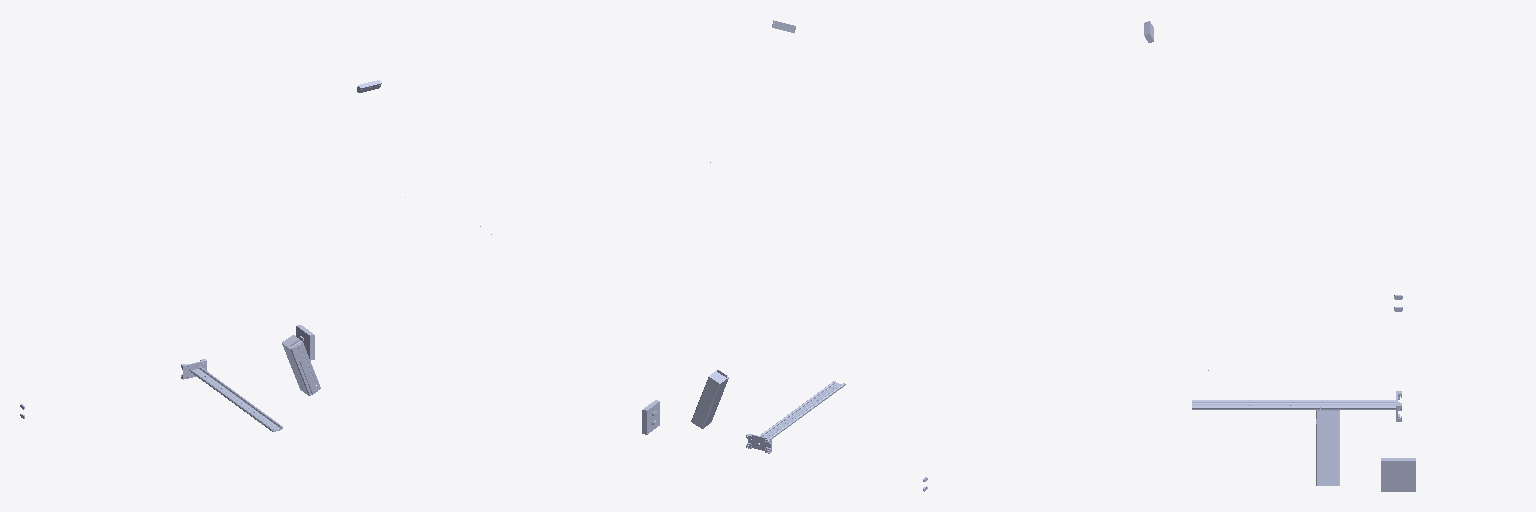
--- Render facts (derived) ---
3 views of the same robot in one strip: view 1: azimuth 30°, elevation 25°; view 2: azimuth 150°, elevation 25°; view 3: azimuth 270°, elevation 25° (orthographic).
Model robo_description with 21 links and 20 joints (2 revolute, 2 prismatic, 16 fixed), rooted at base_link, posed all joints at 0 but 1 set to mid-range because 0 is outside their limits (joint5 = 0.4665).
Links seen in each view (by area): view 1: link2, link5; view 2: link2, link5, base_link; view 3: link2, link5, base_link.
Boxes of the visible links, bbox=[...] form: link2: bbox=[181, 359, 282, 431]; link5: bbox=[282, 335, 320, 395]; link2: bbox=[746, 381, 845, 453]; link5: bbox=[691, 370, 728, 428]; base_link: bbox=[642, 400, 927, 491]; link2: bbox=[1192, 391, 1401, 421]; link5: bbox=[1316, 407, 1339, 485]; base_link: bbox=[1381, 295, 1415, 491].
Size in the robot's own frame: 1.65 by 0.7952 by 1.47 metres.
4 mesh visuals loaded from 6 distinct referenced files (4 binary STL); not drawn: 2 (reference not matched to a file when rendering).

robot.urdf — robo_description:
<?xml version="1.0" encoding="utf-8"?>
<!-- 25AUG2023 Changed the minimum limit of lJoint5 to 0.247 and max to 0.686 -->
<!-- This URDF was automatically created by SolidWorks to URDF Exporter! Originally created by Stephen Brawner ([email redacted]) 
     Commit Version: 1.6.0-4-g7f85cfe  Build Version: 1.6.7995.38578
     For more information, please see http://wiki.ros.org/sw_urdf_exporter -->
<robot
  name="robo_description">
  <link
    name="base_link">
    <inertial>
      <origin
        xyz="-5.13826234849775E-17 -1.63904738952765E-17 0.339473684210526"
        rpy="0 0 0" />
      <mass
        value="19" />
      <inertia
        ixx="2.34956140350877"
        ixy="1.11311423041845E-17"
        ixz="3.69215798456927E-16"
        iyy="2.34956140350877"
        iyz="-7.44985984223617E-17"
        izz="0.151666666666667" />
    </inertial>
    <visual>
      <origin
        xyz="0 0 0"
        rpy="0 0 0" />
      <geometry>
        <mesh
          filename="package://robo_description/meshes/base_link.STL" />
      </geometry>
      <material
        name="">
        <color
          rgba="0.792156862745098 0.819607843137255 0.933333333333333 1" />
      </material>
    </visual>
    <collision>
      <origin
        xyz="0 0 0"
        rpy="0 0 0" />
      <geometry>
        <mesh
          filename="package://robo_description/meshes/base_link.STL" />
      </geometry>
    </collision>
  </link>
  <link
    name="link2">
    <inertial>
      <origin
        xyz="-0.001261 -0.2858 0.14572"
        rpy="0 0 0" />
      <mass
        value="3.13280329013611" />
      <inertia
        ixx="0.0169430024052603"
        ixy="-0.00280446630124331"
        ixz="0.0223183329111622"
        iyy="0.162057682822749"
        iyz="0.000505061238040558"
        izz="0.161640952999751" />
    </inertial>
    <visual>
      <origin
        xyz="0 0 -1"
        rpy="0 0 0" />
      <geometry>
        <mesh
          filename="package://robo_description/meshes/link2.STL" />
      </geometry>
      <material
        name="">
        <color
          rgba="0.792156862745098 0.819607843137255 0.933333333333333 1" />
      </material>
    </visual>
    <collision>
      <origin
        xyz="0 0 0"
        rpy="0 0 0" />
      <geometry>
        <mesh
          filename="package://robo_description/meshes/link2.STL" />
      </geometry>
    </collision>
  </link>
  <joint
    name="joint2"
    type="prismatic">
    <origin
      xyz="0.0 0 1"
      rpy="0 0 0" />
    <parent
      link="base_link" />
    <child
      link="link2" />
    <axis
      xyz="0 0 1" />
    <limit
      lower="0"
      upper="1"
      effort="0"
      velocity="0" />
  </joint>
  <link
    name="link4">
    <inertial>
      <origin
        xyz="-0.000438554587764983 0.0620490502692163 -0.172885898172371"
        rpy="0 0 0" />
      <mass
        value="0.162146723185788" />
      <inertia
        ixx="0.00336616371871891"
        ixy="1.46811284877534E-06"
        ixz="-3.57096843523024E-06"
        iyy="0.00312866852492012"
        iyz="0.00048231220150353"
        izz="0.000338308018448651" />
    </inertial>
    <visual>
      <origin
        xyz="-0.4665 0 -0.790"
        rpy="0 0 0" />
      <geometry>
        <mesh
          filename="package://robo_description/meshes/link4.STL" />
      </geometry>
      <material
        name="">
        <color
          rgba="0.792156862745098 0.819607843137255 0.933333333333333 1" />
      </material>
    </visual>
    <collision>
      <origin
        xyz="0 0 0"
        rpy="0 0 0" />
      <geometry>
        <mesh
          filename="package://robo_description/meshes/link4.STL" />
      </geometry>
    </collision>
  </link>
  <joint
    name="joint4"
    type="revolute">
    <origin
      xyz="0.46904 0 -0.21"
      rpy="0 0 0" />
    <parent
      link="link2" />
    <child
      link="link4" />
    <axis
      xyz="0 0 1" />
    <limit
      lower="-2.9671"
      upper="2.9671"
      effort="0"
      velocity="0" />
  </joint>
  <link
    name="link3">
    <inertial>
      <origin
        xyz="-0.0832189655707039 -0.0894795892974461 -0.00179630042130147"
        rpy="0 0 0" />
      <mass
        value="1.71811977068641" />
      <inertia
        ixx="0.00948440583507882"
        ixy="-0.00159429497921182"
        ixz="0.00308193362516688"
        iyy="0.035537875179704"
        iyz="0.000648421421055908"
        izz="0.0305779645247813" />
    </inertial>
    <visual>
      <origin
        xyz="-0.468545 -0.078 -0.43528"
        rpy="0 0 0" />
      <geometry>
        <mesh
          filename="package://robo_description/meshes/link3.STL" />
      </geometry>
      <material
        name="">
        <color
          rgba="0.792156862745098 0.819607843137255 0.933333333333333 1" />
      </material>
    </visual>
    <collision>
      <origin
        xyz="0 0 0"
        rpy="0 0 0" />
      <geometry>
        <mesh
          filename="package://robo_description/meshes/link3.STL" />
      </geometry>
    </collision>
  </link>
  <joint
    name="joint3"
    type="revolute">
    <origin
      xyz="0.0 0.077824 -0.35472"
      rpy="0 0 0" />
    <parent
      link="link4" />
    <child
      link="link3" />
    <axis
      xyz="0 1 0" />
    <limit
      lower="-1.5708"
      upper="1.5708"
      effort="0"
      velocity="0" />
  </joint>
  <link
    name="yanthra_link">
    <inertial>
      <origin
        xyz="-0.0832189655707036 -0.0114795892974462 -0.00179630042130124"
        rpy="0 0 0" />
      <mass
        value="1.71811977068641" />
      <inertia
        ixx="0.00948440583507882"
        ixy="-0.00159429497921182"
        ixz="0.0030819336251669"
        iyy="0.035537875179704"
        iyz="0.000648421421055907"
        izz="0.0305779645247813" />
    </inertial>
    <visual>
      <origin
        xyz="0 0 0"
        rpy="0 0 0" />
      <geometry>
        <box size="0.001 0.001 0.001"/>
      </geometry>
      <material
        name="">
        <color
          rgba="0.792156862745098 0.819607843137255 0.933333333333333 1" />
      </material>
    </visual>
    <collision>
      <origin
        xyz="0 0 0"
        rpy="0 0 0" />
      <geometry>
        <box size="0.001 0.001 0.001"/>
      </geometry>
    </collision>
  </link>
  <joint
    name="yanthra_joint"
    type="fixed">
    <origin
      xyz="0 -0.078 0"
      rpy="0 0 0" />
    <parent
      link="link3" />
    <child
      link="yanthra_link" />
    <axis
      xyz="0 0 0" />
  </joint>
  <link
    name="link5_origin">
    <inertial>
      <origin
        xyz="-0.00874999999999998 0.0375 -0.00507843424240889"
        rpy="0 0 0" />
      <mass
        value="0.0438088883035136" />
      <inertia
        ixx="3.24913884800222E-05"
        ixy="1.33063310958086E-21"
        ixz="-8.470329472543E-22"
        iyy="3.99574478810853E-06"
        iyz="-3.38875204913906E-21"
        izz="3.07317223657389E-05" />
    </inertial>
    <visual>
      <origin
        xyz="0 0 0"
        rpy="0 0 0" />
      <geometry>
        <box size="0.001 0.001 0.001"/>
      </geometry>
      <material
        name="">
        <color
          rgba="0.792156862745098 0.819607843137255 0.933333333333333 1" />
      </material>
    </visual>
    <collision>
      <origin
        xyz="0 0 0"
        rpy="0 0 0" />
      <geometry>
        <box size="0.001 0.001 0.001"/>
      </geometry>
    </collision>
  </link>
  <joint
    name="link5_origin_joint"
    type="fixed">
    <origin
      xyz="0 0 0.0"
      rpy="0 0 0" />
    <parent	
      link="yanthra_link" />
    <child
      link="link5_origin" />
    <axis
      xyz="0 0 0" />
  </joint>
  <link
    name="link5">
    <inertial>
      <origin
        xyz="0.108132413871145 2.08242781028485E-06 0.00569147154470495"
        rpy="0 0 0" />
      <mass
        value="0.277404400359573" />
      <inertia
        ixx="0.00021628976171093"
        ixy="1.27900715148446E-06"
        ixz="-0.000135093187106687"
        iyy="0.00359200319167061"
        iyz="-8.36237914028336E-08"
        izz="0.00358633509004247" />
    </inertial>
    <visual>
      <origin
        xyz="-0.715545 0 -0.43528"
        rpy="0 0 0" />
      <geometry>
        <mesh
          filename="package://robo_description/meshes/link5.STL" />
      </geometry>
      <material
        name="">
        <color
          rgba="0.792156862745098 0.819607843137255 0.933333333333333 1" />
      </material>
    </visual>
    <collision>
      <origin
        xyz="0 0 0"
        rpy="0 0 0" />
      <geometry>
        <mesh
          filename="package://robo_description/meshes/link5.STL" />
      </geometry>
    </collision>
  </link>
  <joint
    name="joint5"
    type="prismatic">
    <origin
      xyz="0.0 0 0"
      rpy="0 0 0" />
    <parent
      link="link5_origin" />
    <child
      link="link5" />
    <axis
      xyz="1 0 0" />
    <limit
      lower="0.247"
      upper="0.686"
      effort="0"
      velocity="0" />
  </joint>
  <link
    name="ee_link">
    <inertial>
      <origin
        xyz="-0.00874999999999998 0.0375 -0.00507843424240889"
        rpy="0 0 0" />
      <mass
        value="0.0438088883035136" />
      <inertia
        ixx="3.24913884800222E-05"
        ixy="1.33063310958086E-21"
        ixz="-8.470329472543E-22"
        iyy="3.99574478810853E-06"
        iyz="-3.38875204913906E-21"
        izz="3.07317223657389E-05" />
    </inertial>
    <visual>
      <origin
        xyz="0 0 0"
        rpy="0 0 0" />
      <geometry>
        <box size="0.001 0.001 0.001"/>
      </geometry>
      <material
        name="">
        <color
          rgba="0.792156862745098 0.819607843137255 0.933333333333333 1" />
      </material>
    </visual>
    <collision>
      <origin
        xyz="0 0 0"
        rpy="0 0 0" />
      <geometry>
        <box size="0.001 0.001 0.001"/>
      </geometry>
    </collision>
  </link>
  <joint
    name="ee_joint"
    type="fixed">
    <origin
      xyz="-0.085 0 0"
      rpy="0 0 0" />
    <parent	
      link="link5" />
    <child
      link="ee_link" />
    <axis
      xyz="0 0 0" />
  </joint>
  <link
    name="aruco_marker_link">
    <inertial>
      <origin
        xyz="-0.00874999999999998 0.0375 -0.00507843424240889"
        rpy="0 0 0" />
      <mass
        value="0.0438088883035136" />
      <inertia
        ixx="3.24913884800222E-05"
        ixy="1.33063310958086E-21"
        ixz="-8.470329472543E-22"
        iyy="3.99574478810853E-06"
        iyz="-3.38875204913906E-21"
        izz="3.07317223657389E-05" />
    </inertial>
    <visual>
      <origin
        xyz="0 0 0"
        rpy="0 0 0" />
      <geometry>
        <box size="0.001 0.001 0.001"/>
      </geometry>
      <material
        name="">
        <color
          rgba="0.792156862745098 0.819607843137255 0.933333333333333 1" />
      </material>
    </visual>
    <collision>
      <origin
        xyz="0 0 0"
        rpy="0 0 0" />
      <geometry>
        <box size="0.001 0.001 0.001"/>
      </geometry>
    </collision>
  </link>
  <joint
    name="aruco_joint"
    type="fixed">
    <origin
      xyz="0.0 0 0.08"
      rpy="0 0 0" />
    <parent	
      link="ee_link" />
    <child
      link="aruco_marker_link" />
    <axis
      xyz="0 0 0" />
  </joint>
  <link
    name="aruco_link_1">
    <inertial>
      <origin
        xyz="-0.00874999999999998 0.0375 -0.00507843424240889"
        rpy="0 0 0" />
      <mass
        value="0.0438088883035136" />
      <inertia
        ixx="3.24913884800222E-05"
        ixy="1.33063310958086E-21"
        ixz="-8.470329472543E-22"
        iyy="3.99574478810853E-06"
        iyz="-3.38875204913906E-21"
        izz="3.07317223657389E-05" />
    </inertial>
    <visual>
      <origin
        xyz="0 0 0"
        rpy="0 0 0" />
      <geometry>
        <box size="0.001 0.001 0.001"/>
      </geometry>
      <material
        name="">
        <color
          rgba="0.792156862745098 0.819607843137255 0.933333333333333 1" />
      </material>
    </visual>
    <collision>
      <origin
        xyz="0 0 0"
        rpy="0 0 0" />
      <geometry>
        <box size="0.001 0.001 0.001"/>
      </geometry>
    </collision>
  </link>
  <joint
    name="aruco_joint_1"
    type="fixed">
    <origin
      xyz="0.0 0.04 0.04"
      rpy="0 0 0" />
    <parent	
      link="aruco_marker_link" />
    <child
      link="aruco_link_1" />
    <axis
      xyz="0 0 0" />
  </joint>
  <link
    name="aruco_link_2">
    <inertial>
      <origin
        xyz="-0.00874999999999998 0.0375 -0.00507843424240889"
        rpy="0 0 0" />
      <mass
        value="0.0438088883035136" />
      <inertia
        ixx="3.24913884800222E-05"
        ixy="1.33063310958086E-21"
        ixz="-8.470329472543E-22"
        iyy="3.99574478810853E-06"
        iyz="-3.38875204913906E-21"
        izz="3.07317223657389E-05" />
    </inertial>
    <visual>
      <origin
        xyz="0 0 0"
        rpy="0 0 0" />
      <geometry>
        <box size="0.001 0.001 0.001"/>
      </geometry>
      <material
        name="">
        <color
          rgba="0.792156862745098 0.819607843137255 0.933333333333333 1" />
      </material>
    </visual>
    <collision>
      <origin
        xyz="0 0 0"
        rpy="0 0 0" />
      <geometry>
        <box size="0.001 0.001 0.001"/>
      </geometry>
    </collision>
  </link>
  <joint
    name="aruco_joint_2"
    type="fixed">
    <origin
      xyz="0.0 -0.04 0.04"
      rpy="0 0 0" />
    <parent	
      link="aruco_marker_link" />
    <child
      link="aruco_link_2" />
    <axis
      xyz="0 0 0" />
  </joint>
  <link
    name="aruco_link_3">
    <inertial>
      <origin
        xyz="-0.00874999999999998 0.0375 -0.00507843424240889"
        rpy="0 0 0" />
      <mass
        value="0.0438088883035136" />
      <inertia
        ixx="3.24913884800222E-05"
        ixy="1.33063310958086E-21"
        ixz="-8.470329472543E-22"
        iyy="3.99574478810853E-06"
        iyz="-3.38875204913906E-21"
        izz="3.07317223657389E-05" />
    </inertial>
    <visual>
      <origin
        xyz="0 0 0"
        rpy="0 0 0" />
      <geometry>
        <box size="0.001 0.001 0.001"/>
      </geometry>
      <material
        name="">
        <color
          rgba="0.792156862745098 0.819607843137255 0.933333333333333 1" />
      </material>
    </visual>
    <collision>
      <origin
        xyz="0 0 0"
        rpy="0 0 0" />
      <geometry>
        <box size="0.001 0.001 0.001"/>
      </geometry>
    </collision>
  </link>
  <joint
    name="aruco_joint_3"
    type="fixed">
    <origin
      xyz="0.0 0.04 -0.04"
      rpy="0 0 0" />
    <parent	
      link="aruco_marker_link" />
    <child
      link="aruco_link_3" />
    <axis
      xyz="0 0 0" />
  </joint>
  <link
    name="aruco_link_4">
    <inertial>
      <origin
        xyz="-0.00874999999999998 0.0375 -0.00507843424240889"
        rpy="0 0 0" />
      <mass
        value="0.0438088883035136" />
      <inertia
        ixx="3.24913884800222E-05"
        ixy="1.33063310958086E-21"
        ixz="-8.470329472543E-22"
        iyy="3.99574478810853E-06"
        iyz="-3.38875204913906E-21"
        izz="3.07317223657389E-05" />
    </inertial>
    <visual>
      <origin
        xyz="0 0 0"
        rpy="0 0 0" />
      <geometry>
        <box size="0.001 0.001 0.001"/>
      </geometry>
      <material
        name="">
        <color
          rgba="0.792156862745098 0.819607843137255 0.933333333333333 1" />
      </material>
    </visual>
    <collision>
      <origin
        xyz="0 0 0"
        rpy="0 0 0" />
      <geometry>
        <box size="0.001 0.001 0.001"/>
      </geometry>
    </collision>
  </link>
  <joint
    name="aruco_joint_4"
    type="fixed">
    <origin
      xyz="0.0 -0.04 -0.04"
      rpy="0 0 0" />
    <parent	
      link="aruco_marker_link" />
    <child
      link="aruco_link_4" />
    <axis
      xyz="0 0 0" />
  </joint>
  <link
    name="link7">
    <inertial>
      <origin
        xyz="-0.00129487747822488 -0.0114795892973884 0.11996423535158"
        rpy="0 0 0" />
      <mass
        value="1.71811977068641" />
      <inertia
        ixx="0.0113386071435481"
        ixy="-0.00171490439294498"
        ixz="-0.00672100859249017"
        iyy="0.0355378751797041"
        iyz="-0.0001460470577602"
        izz="0.0287237632163119" />
    </inertial>
    <visual>
      <origin
        xyz="0 0 0"
        rpy="0 0 0" />
      <geometry>
        <box size="0.001 0.001 0.001"/>
      </geometry>
      <material
        name="">
        <color
          rgba="0.792156862745098 0.819607843137255 0.933333333333333 1" />
      </material>
    </visual>
    <collision>
      <origin
        xyz="0 0 0"
        rpy="0 0 0" />
      <geometry>
        <box size="0.001 0.001 0.001"/>
      </geometry>
    </collision>
  </link>
  <joint
    name="joint7"
    type="fixed">
    <origin
      xyz="0.47229 -0.069971 0.80411"
      rpy="0 0.785398 -1.5708" />
    <parent
      link="base_link"/>
    <child
      link="link7"/>
    <axis
      xyz="0 0 0" />
  </joint>
  <link
    name="camera_mount_link">
    <inertial>
      <origin
        xyz="-0.00129487747822488 -0.0114795892973883 0.11996423535158"
        rpy="0 0 0" />
      <mass
        value="1.71811977068641" />
      <inertia
        ixx="0.0113386071435481"
        ixy="-0.00171490439294498"
        ixz="-0.00672100859249018"
        iyy="0.0355378751797041"
        iyz="-0.000146047057760202"
        izz="0.0287237632163119" />
    </inertial>
    <visual>
      <origin
        xyz="0 0 0"
        rpy="0 0 0" />
      <geometry>
        <box size="0.001 0.001 0.001"/>
      </geometry>
      <material
        name="">
        <color
          rgba="0.792156862745098 0.819607843137255 0.933333333333333 1" />
      </material>
    </visual>
    <collision>
      <origin
        xyz="0 0 0"
        rpy="0 0 0" />
      <geometry>
        <box size="0.001 0.001 0.001"/>
      </geometry>
    </collision>
  </link>
     <!--Realsense Camera depth is 20 mm from back to glass, But the depth start point(GROUND ZERO REFERENCE i.e depth is Zero) is 1.1 mm behind glass-->
     <!--Camera thickness-Zero Ref +Plate thick=20-1.1+2 = 20.09 mm -->
     <!-- xyz="0.0209 -0.0375 0"-->
  <joint
    name="camera_mount_joint"
    type="fixed">
    <origin
      xyz="0.02090 -0.0375 0"
      rpy="-1.5708 0 -1.5708" />
    <parent
      link="link7" />
    <child
      link="camera_mount_link" />
    <axis
      xyz="0 0 0" />
  </joint>
  <link
    name="virtual_cam_link">
    <inertial>
      <origin
        xyz="-0.00874999999999998 0.0375 -0.00507843424240889"
        rpy="0 0 0" />
      <mass
        value="0.0438088883035136" />
      <inertia
        ixx="3.24913884800222E-05"
        ixy="1.33063310958086E-21"
        ixz="-8.470329472543E-22"
        iyy="3.99574478810853E-06"
        iyz="-3.38875204913906E-21"
        izz="3.07317223657389E-05" />
    </inertial>
    <visual>
      <origin
        xyz="0 0 0"
        rpy="0 0 0" />
      <geometry>
        <box size="0.001 0.001 0.001"/>
      </geometry>
      <material
        name="">
        <color
          rgba="0.792156862745098 0.819607843137255 0.933333333333333 1" />
      </material>
    </visual>
    <collision>
      <origin
        xyz="0 0 0"
        rpy="0 0 0" />
      <geometry>
        <box size="0.001 0.001 0.001"/>
      </geometry>
    </collision>
  </link>
  <joint
    name="virtual_cam_link_joint"
    type="fixed">
    <origin
      xyz="0 0 0"
      rpy="0 0 0" />
    <parent	
      link="camera_mount_link" />
    <child
      link="virtual_cam_link" />
    <axis
      xyz="0 0 0" />
  </joint>

  <link
    name="camera_link">
    <inertial>
      <origin
        xyz="-0.00874999999999998 0.0375 -0.00507843424240889"
        rpy="0 0 0" />
      <mass
        value="0.0438088883035136" />
      <inertia
        ixx="3.24913884800222E-05"
        ixy="1.33063310958086E-21"
        ixz="-8.470329472543E-22"
        iyy="3.99574478810853E-06"
        iyz="-3.38875204913906E-21"
        izz="3.07317223657389E-05" />
    </inertial>
    <visual>
      <origin
        xyz="-0.03768 -0.425 -0.175"
        rpy="0 -2.04 -1.5708" />
      <geometry>
        <mesh
          filename="package://robo_description/meshes/camera_link.STL" />
      </geometry>
      <material
        name="">
        <color
          rgba="0.792156862745098 0.819607843137255 0.933333333333333 1" />
      </material>
    </visual>
    <collision>
      <origin
        xyz="0 0 0"
        rpy="0 0 0" />
      <geometry>
        <mesh
          filename="package://robo_description/meshes/camera_link.STL" />
      </geometry>
    </collision>
  </link>
  <joint
    name="camera_link_joint"
    type="fixed">
    <origin
      xyz="0.0 0 0"
      rpy="0 0 0" />
    <parent
      link="virtual_cam_link" />
    <child
      link="camera_link" />
    <axis
      xyz="0 0 0" />
  </joint>

  <link name="camera_depth_frame">

    <visual>

    <origin xyz="0 0 0" rpy="0 0 0" />

      <geometry>

        <box size="0.001 0.001 0.001"/>

      </geometry>

    </visual>

  </link>

  <joint name="camera_depth_frame_joint" type="fixed">

    <origin rpy="0 0 0" xyz="0 0 0"/>

    <parent link="camera_link"/>

    <child link="camera_depth_frame"/>

  </joint>

  <link name="camera_depth_optical_frame">

    <visual>

    <origin xyz="0 0 0" rpy="0 0 0" />

      <geometry>

        <box size="0.001 0.001 0.001"/>

      </geometry>

    </visual>

  </link>

  <joint name="camera_depth_optical_frame_joint" type="fixed">

   <origin rpy="0 0 0" xyz="0 0 0"/>

   <parent link="camera_depth_frame"/>

   <child link="camera_depth_optical_frame"/>

  </joint>

  <link name="camera_color_frame">

    <visual>

    <origin xyz="0 0 0" rpy="0 0 0" />

      <geometry>

        <box size="0.001 0.001 0.001"/>

      </geometry>

    </visual>

  </link>

  <joint name="camera_color_frame_joint" type="fixed">

    <origin rpy="0 0 0" xyz="0 0 0"/>

    <parent link="camera_link"/>

    <child link="camera_color_frame"/>

  </joint>

  <link name="camera_color_optical_frame">

    <visual>

    <origin xyz="0 0 0" rpy="0 0 0" />

      <geometry>

        <box size="0.001 0.001 0.001"/>

      </geometry>

    </visual>

  </link>

  <joint name="camera_color_optical_frame_joint" type="fixed">

   <origin rpy="0 0 0" xyz="0 0 0"/>

   <parent link="camera_color_frame"/>

   <child link="camera_color_optical_frame"/>

  </joint>
  <gazebo reference="stand">

    <material>Gazebo/Grey</material>

  </gazebo>

  <gazebo reference="link3">

    <material>Gazebo/Green</material>

  </gazebo>

  <gazebo reference="link4">

    <material>Gazebo/Red</material>

  </gazebo>

  <gazebo reference="link5">

    <material>Gazebo/Green</material>

  </gazebo>

  <gazebo reference="link9">

    <material>Gazebo/Red</material>

  </gazebo>

  <gazebo reference="link6">

    <material>Gazebo/White</material>

  </gazebo>

  <transmission name="tran1">

    <type>transmission_interface/SimpleTransmission</type>

    <joint name="joint3">

      <hardwareInterface>hardware_interface/PositionJointInterface</hardwareInterface>

    </joint>

    <actuator name="motor1">

      <hardwareInterface>hardware_interface/PositionJointInterface</hardwareInterface>

      <mechanicalReduction>1</mechanicalReduction>

    </actuator>

  </transmission>

  <transmission name="tran1">

    <type>transmission_interface/SimpleTransmission</type>

    <joint name="joint4">

      <hardwareInterface>hardware_interface/PositionJointInterface</hardwareInterface>

    </joint>

    <actuator name="motor1">

      <hardwareInterface>hardware_interface/PositionJointInterface</hardwareInterface>

      <mechanicalReduction>1</mechanicalReduction>

    </actuator>

  </transmission>

  <transmission name="tran1">

    <type>transmission_interface/SimpleTransmission</type>

    <joint name="joint5">

      <hardwareInterface>hardware_interface/PositionJointInterface</hardwareInterface>

    </joint>

    <actuator name="motor1">

      <hardwareInterface>hardware_interface/PositionJointInterface</hardwareInterface>

      <mechanicalReduction>1</mechanicalReduction>

    </actuator>

  </transmission>

  <gazebo>

    <plugin filename="libgazebo_ros_control.so" name="gazebo_ros_control">

      <robotNameSpace>/arm_controller</robotNameSpace>

    </plugin>

  </gazebo>

</robot>
